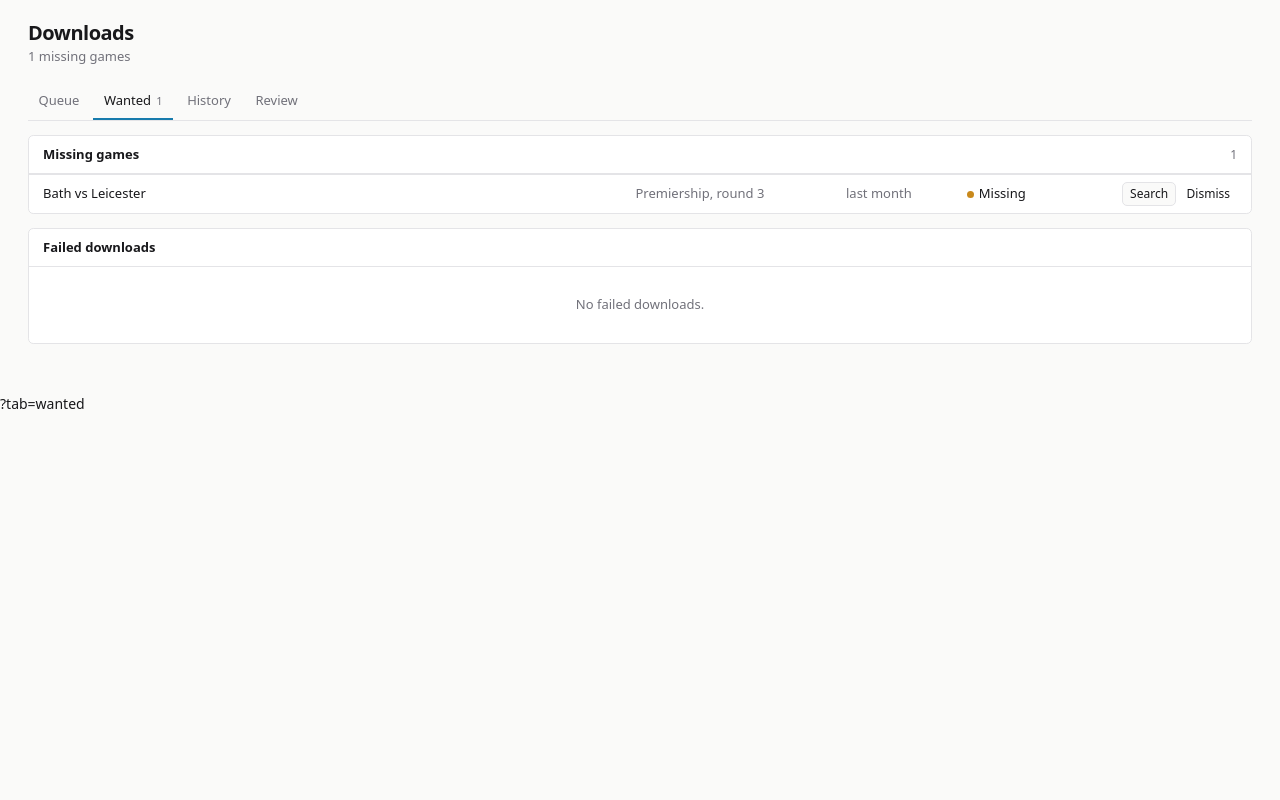
Downloads › searches a missing game and grabs a candidate
This screenshot has width=1280, height=800.
Expected: the text "Bath vs Leicester" is shown, [43,184,146,202]
Click the button "Search": click(1149, 194) [1122,182,1176,206]
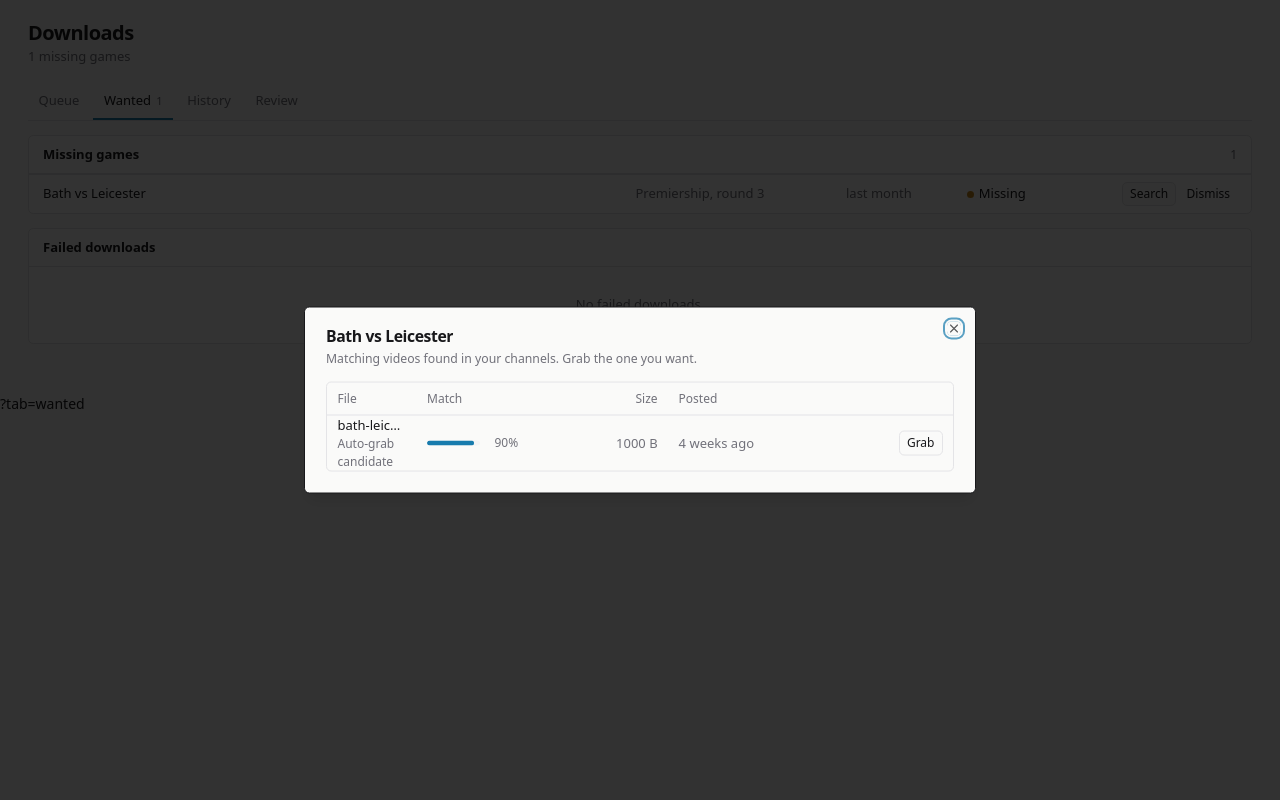
Expected: the text "bath-leicester.mp4" is shown, [338,415,406,434]
Click the button "Grab": click(921, 443) [899,430,942,455]
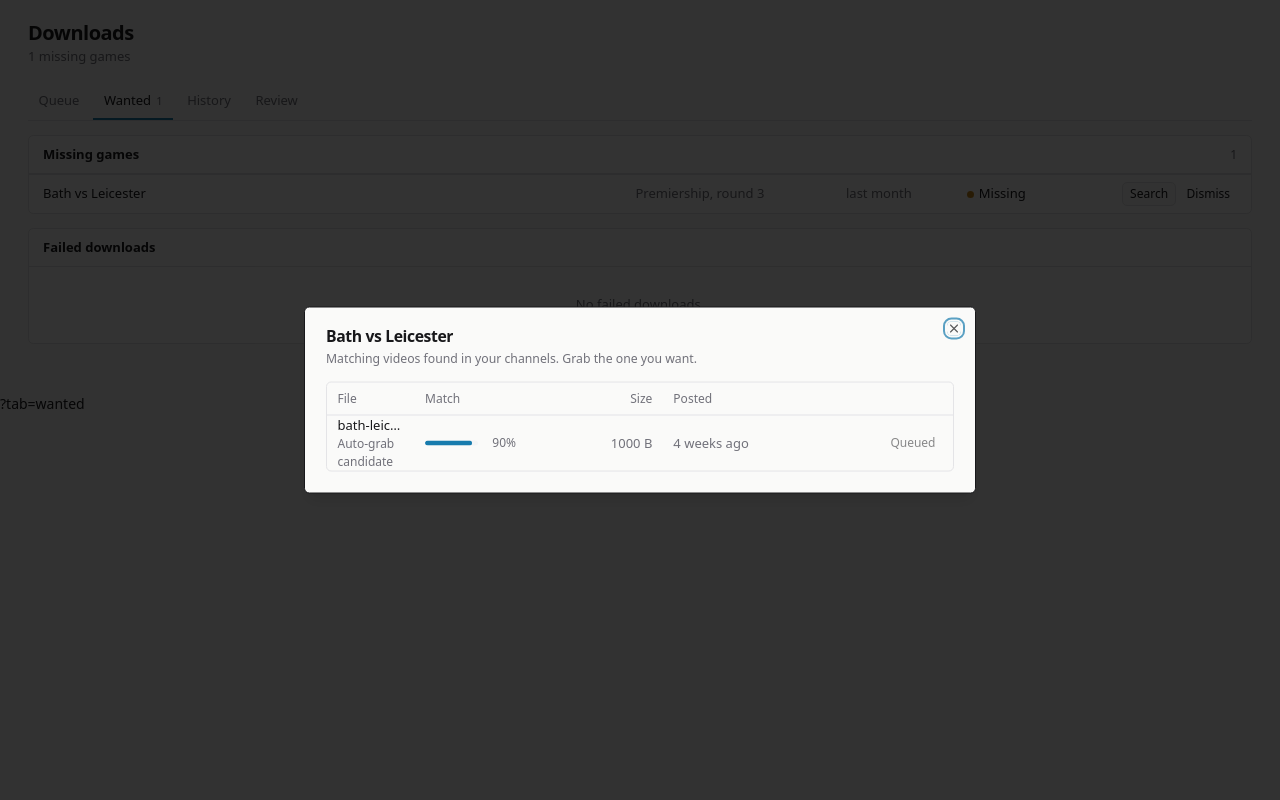
Expected: the button "Queued" is shown, [883,430,942,455]
